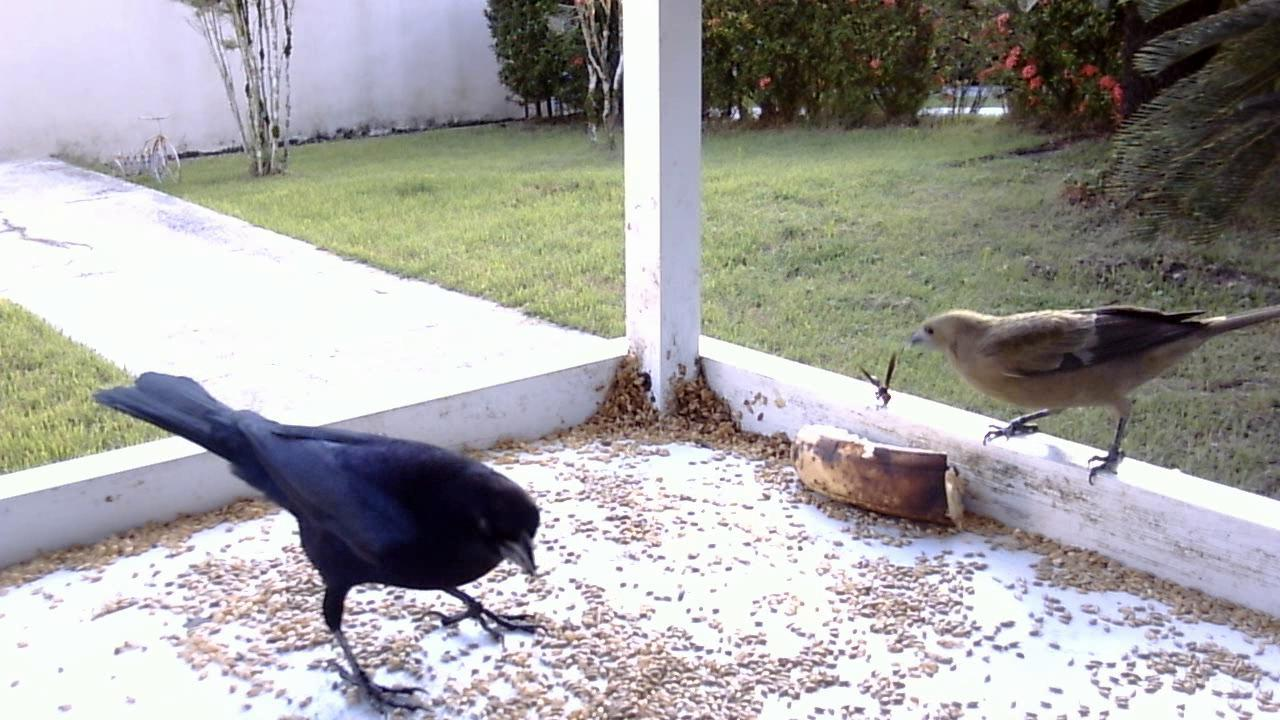chupim: (81, 352, 548, 720)
sanhaco_do_coqueiro: (890, 291, 1273, 494)
